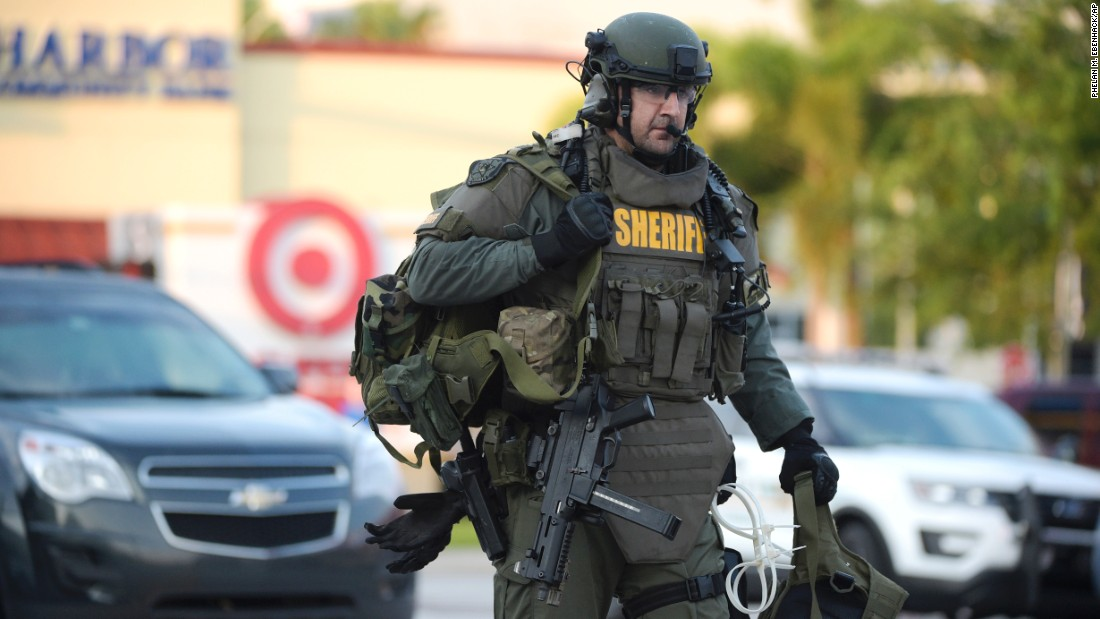Gun: (548, 384, 644, 600), (444, 451, 499, 557)
